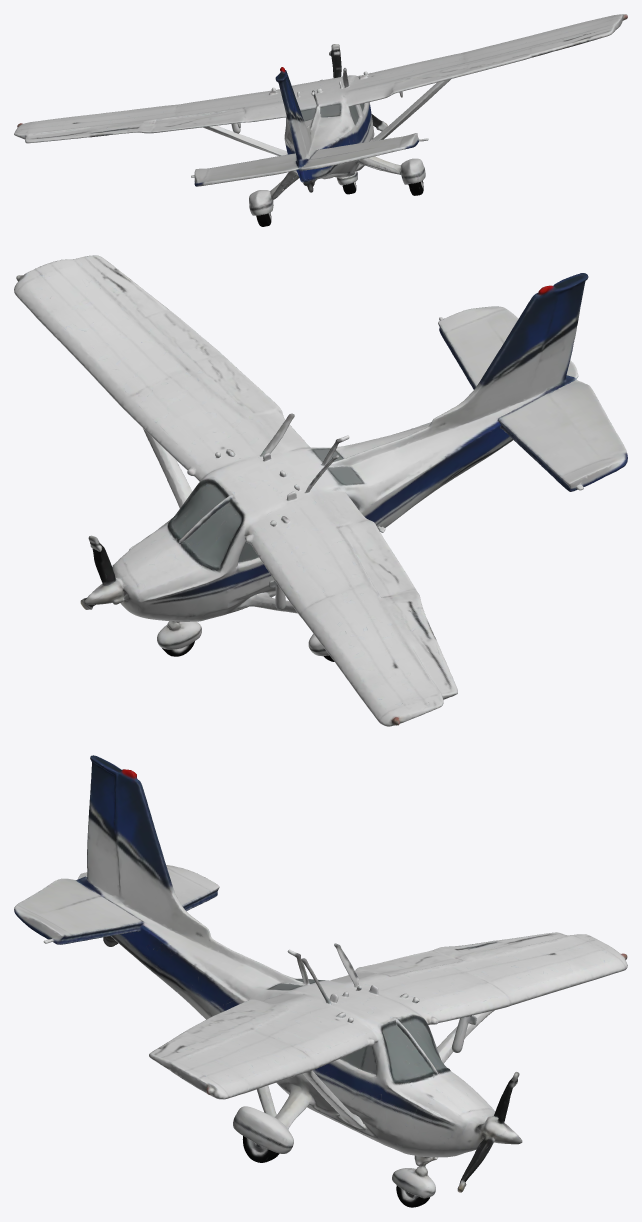
Rendered from pixal3d.glb.
The picture shows the model from 3 angles, top to bottom: view 1: azimuth 30°, elevation 25°; view 2: azimuth 150°, elevation 25°; view 3: azimuth 270°, elevation 25°; orthographic projection. The views are drawn at different scales.
Parts seen in each view (by area): view 1: world; view 2: world; view 3: world.
Part boxes in pixels (bbox=[...]): world: bbox=[14, 14, 627, 226]; world: bbox=[14, 255, 627, 726]; world: bbox=[14, 755, 627, 1207].
Size of the model in its own units: 0.8145 by 0.4143 by 0.7022.
Materials: 1 (1 with a texture image).
